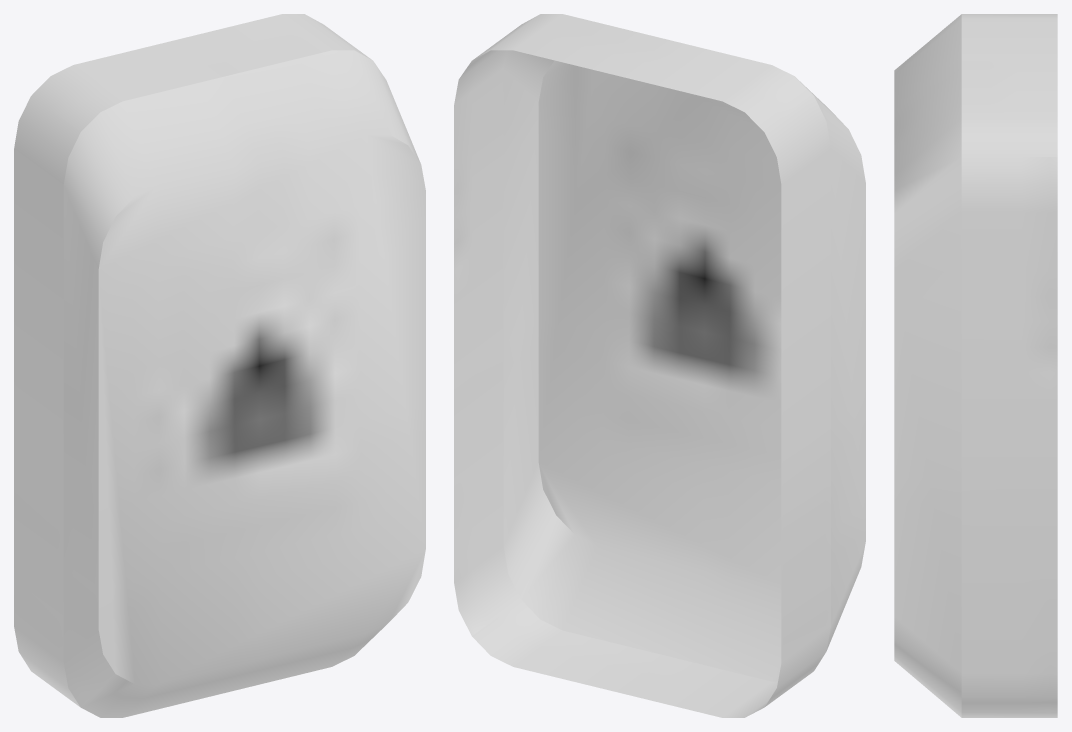
File: dock_btn-transformed.glb
The picture shows the model from 3 angles, left to right: view 1: azimuth 30°, elevation 25°; view 2: azimuth 150°, elevation 25°; view 3: azimuth 270°, elevation 25°; orthographic projection. The views are drawn at different scales.
Visible parts, largest first — view 1: dock_btn; view 2: dock_btn; view 3: dock_btn.
Part boxes in pixels (bbox=[...]): dock_btn: bbox=[14, 14, 425, 717]; dock_btn: bbox=[454, 14, 865, 717]; dock_btn: bbox=[894, 14, 1057, 717].
Bounding box in the file's own units: 0.007 × 0.0126 × 0.00313.
Materials: 1 (1 with a texture image).
